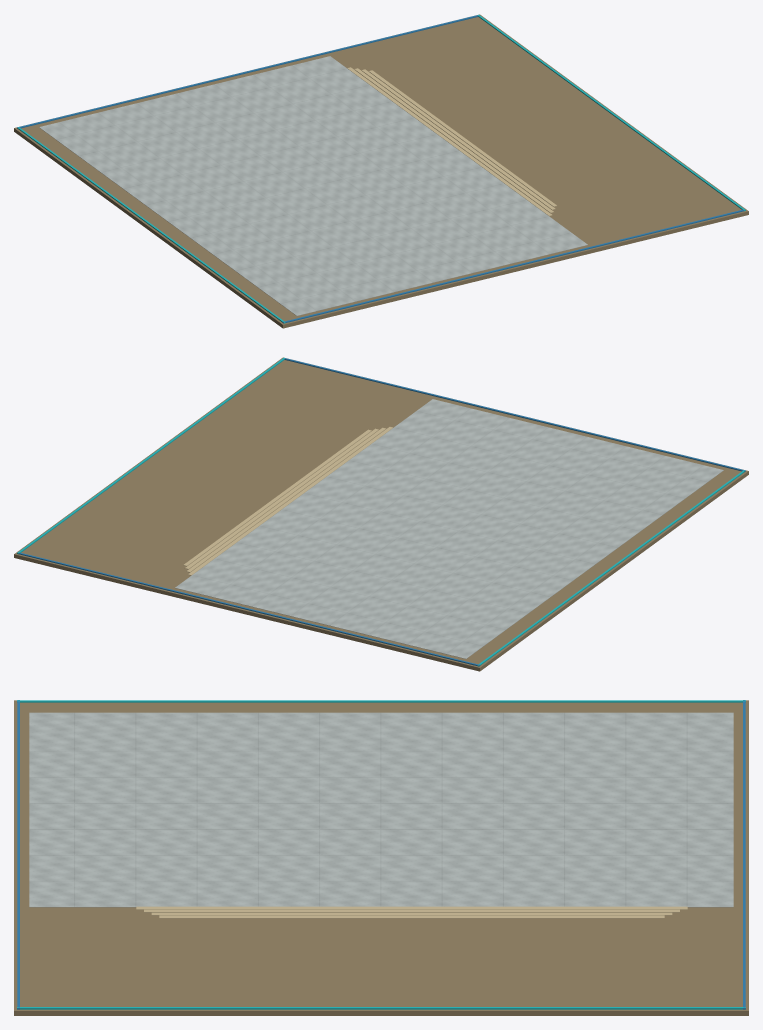
Rendered from AQUA-001.glb.
The picture shows the model from 3 angles, top to bottom: view 1: azimuth 30°, elevation 25°; view 2: azimuth 150°, elevation 25°; view 3: azimuth 270°, elevation 25°; orthographic projection. The views are drawn at different scales.
Parts seen in each view (by area): view 1: AQUA-001; view 2: AQUA-001; view 3: AQUA-001.
Boxes of the visible parts, x1,y1,x2,y2 form: AQUA-001: [14, 14, 748, 328]; AQUA-001: [14, 357, 748, 671]; AQUA-001: [14, 700, 748, 1015].
Size of the model in its own units: 48 by 0.46 by 48.
5 materials, 1 textured.
